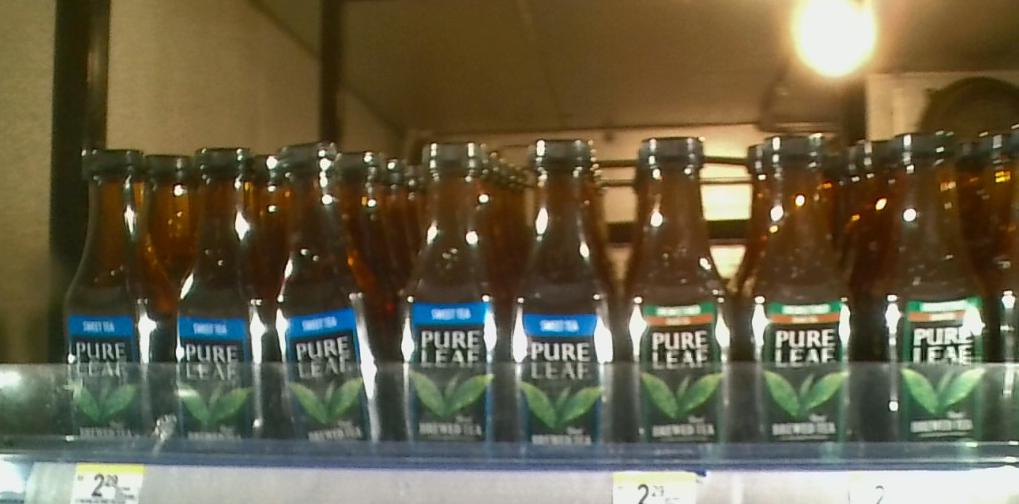bottle: (860, 124, 985, 451), (508, 124, 624, 463), (741, 127, 857, 452), (624, 128, 732, 468), (58, 144, 177, 438), (276, 140, 383, 453), (407, 135, 502, 451), (178, 143, 271, 454)
